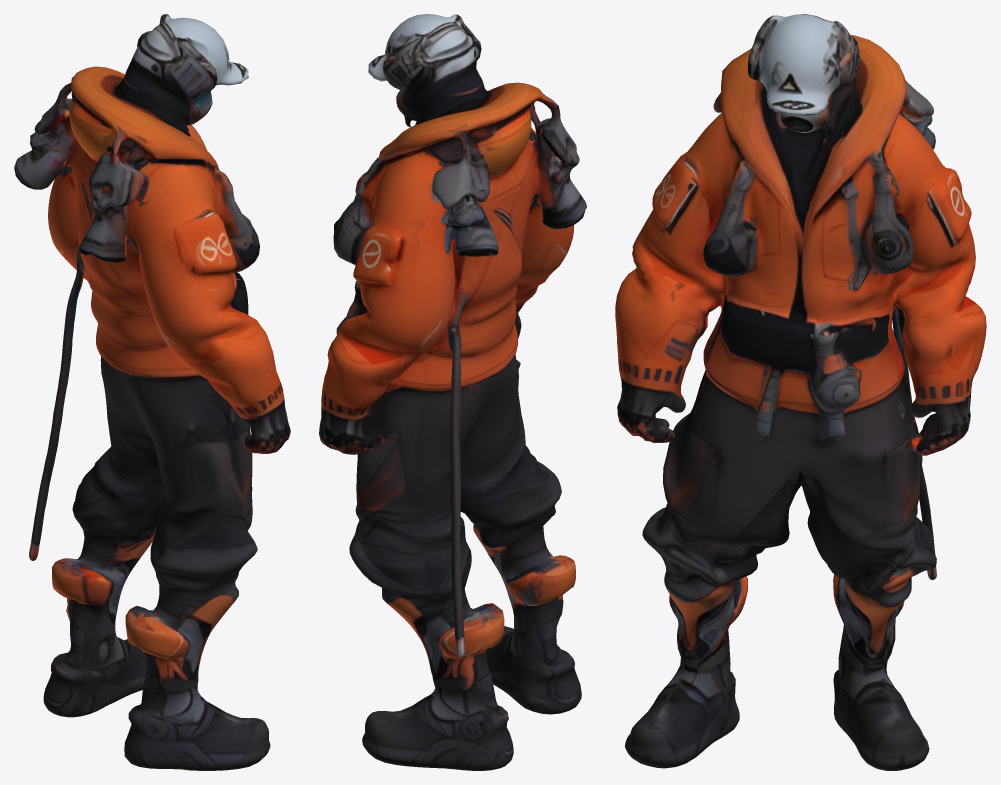
The model's file is tenhun_falling_spaceman_fanart12.glb.
The picture shows the model from 3 angles, left to right: view 1: azimuth 30°, elevation 25°; view 2: azimuth 150°, elevation 25°; view 3: azimuth 270°, elevation 25°; orthographic projection. The views are drawn at different scales.
Visible parts, largest first — view 1: tripo_node_5f05060b-9598-4fd7-9d6b-97b2cb3dd7bc_tripo_mat_5f; view 2: tripo_node_5f05060b-9598-4fd7-9d6b-97b2cb3dd7bc_tripo_mat_5f; view 3: tripo_node_5f05060b-9598-4fd7-9d6b-97b2cb3dd7bc_tripo_mat_5f.
Boxes of the visible parts, x1,y1,x2,y2 form: tripo_node_5f05060b-9598-4fd7-9d6b-97b2cb3dd7bc_tripo_mat_5f: [14, 14, 290, 770]; tripo_node_5f05060b-9598-4fd7-9d6b-97b2cb3dd7bc_tripo_mat_5f: [319, 14, 586, 770]; tripo_node_5f05060b-9598-4fd7-9d6b-97b2cb3dd7bc_tripo_mat_5f: [615, 14, 986, 770].
Bounding box in the file's own units: 0.5597 × 1.87 × 0.8411.
Materials: 1 (1 with a texture image).
